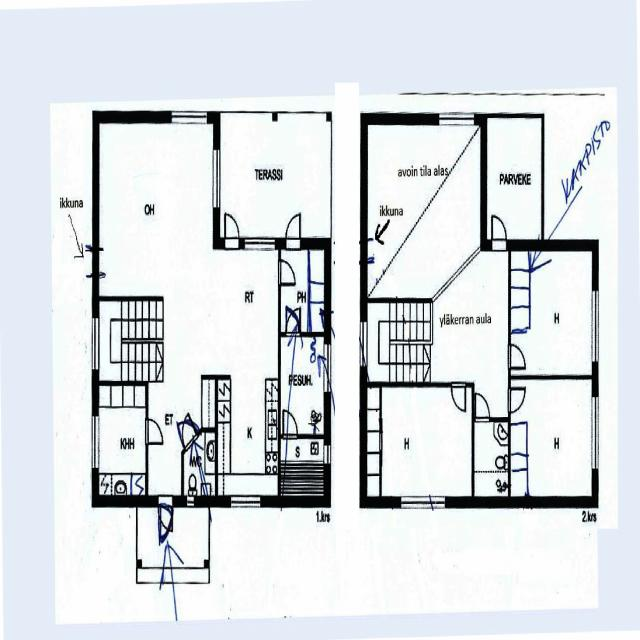door: (175, 408, 200, 450), (158, 495, 173, 532), (492, 216, 506, 252), (286, 215, 300, 249), (286, 307, 301, 336), (283, 409, 297, 438), (226, 216, 238, 249), (475, 394, 489, 422), (278, 261, 295, 284), (508, 344, 525, 367), (146, 419, 162, 443), (452, 381, 465, 409), (508, 388, 523, 409)
